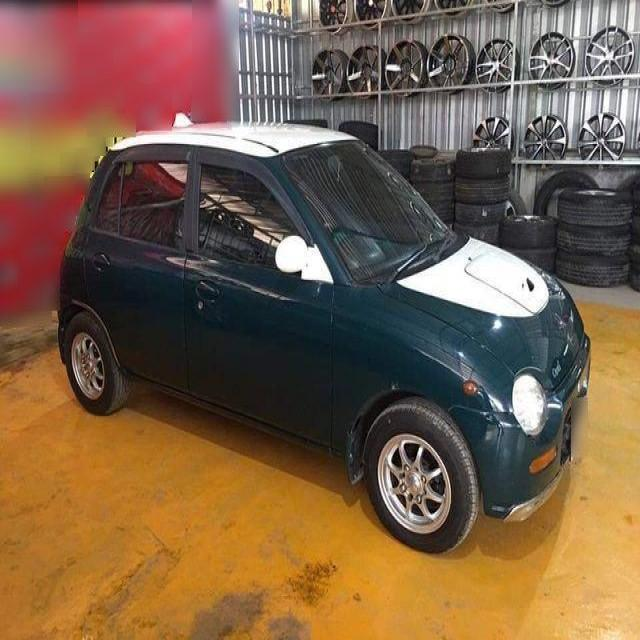back_right_door: (84, 145, 194, 392)
front_bumper: (446, 327, 591, 523)
front_glass: (284, 139, 470, 285)
front_right_door: (185, 144, 334, 448)
front_right_light: (512, 376, 547, 431)
hood: (376, 237, 585, 391)
right_mirror: (275, 233, 310, 274)
wheel: (64, 311, 479, 558)
